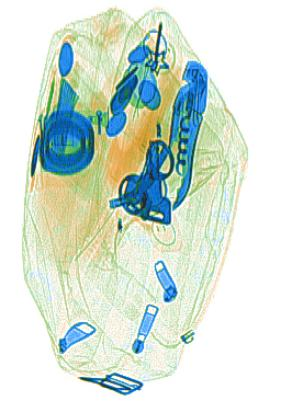knife: (167, 58, 210, 211)
